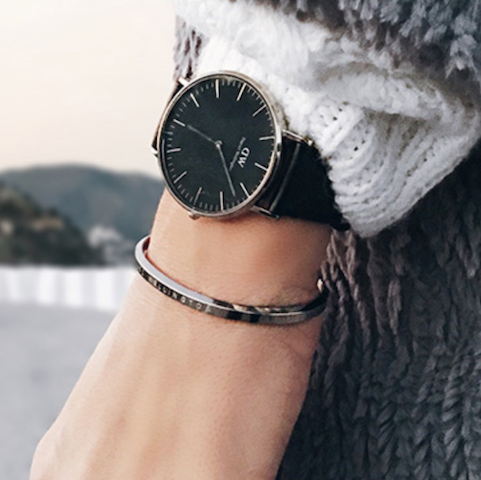watch: (130, 67, 390, 246)
